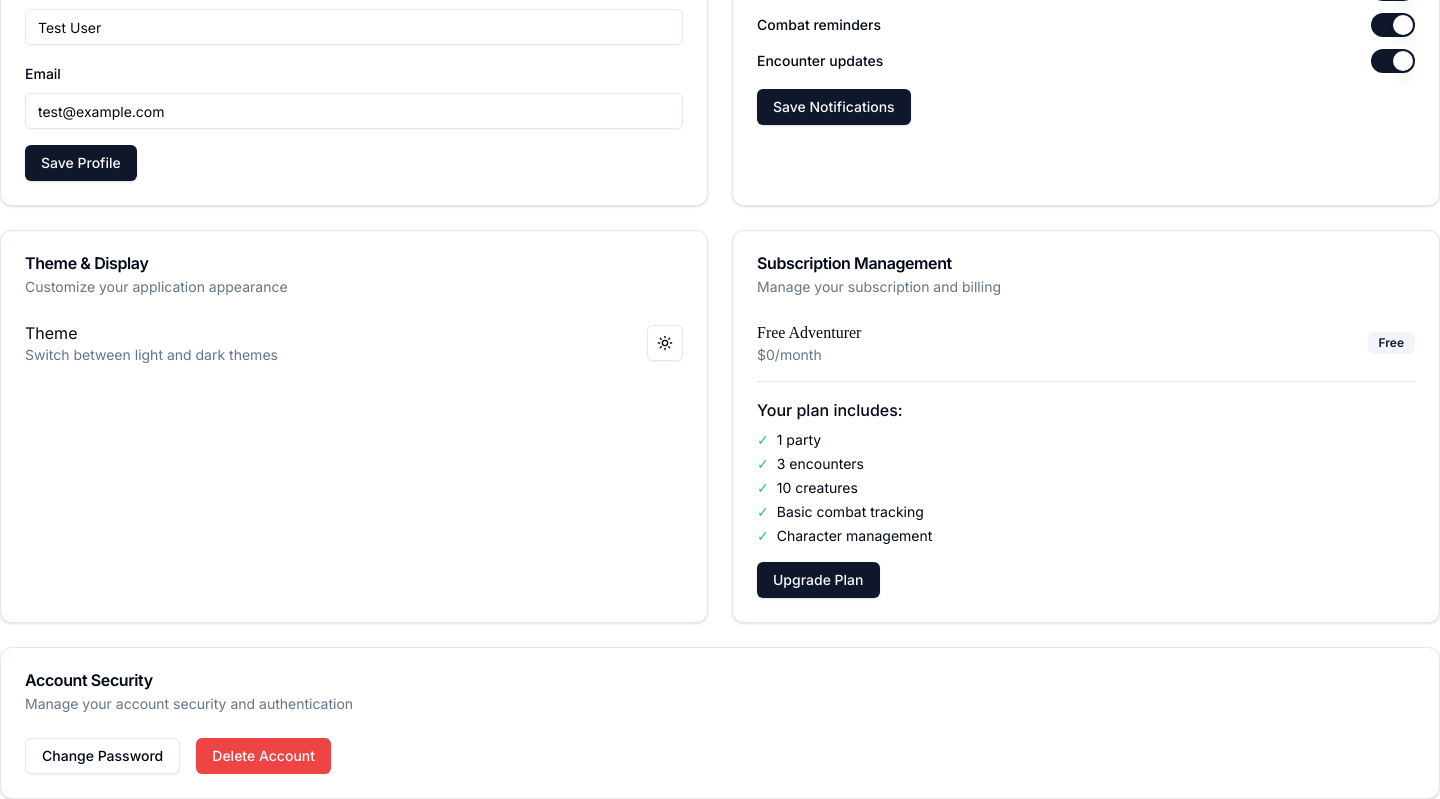
Test: Settings Component - Account Deletion › Account Deletion Process › should show error message when deletion fails
(page scrolled)
Click the button "Delete Account" at [264, 756], box [196,738,331,774]
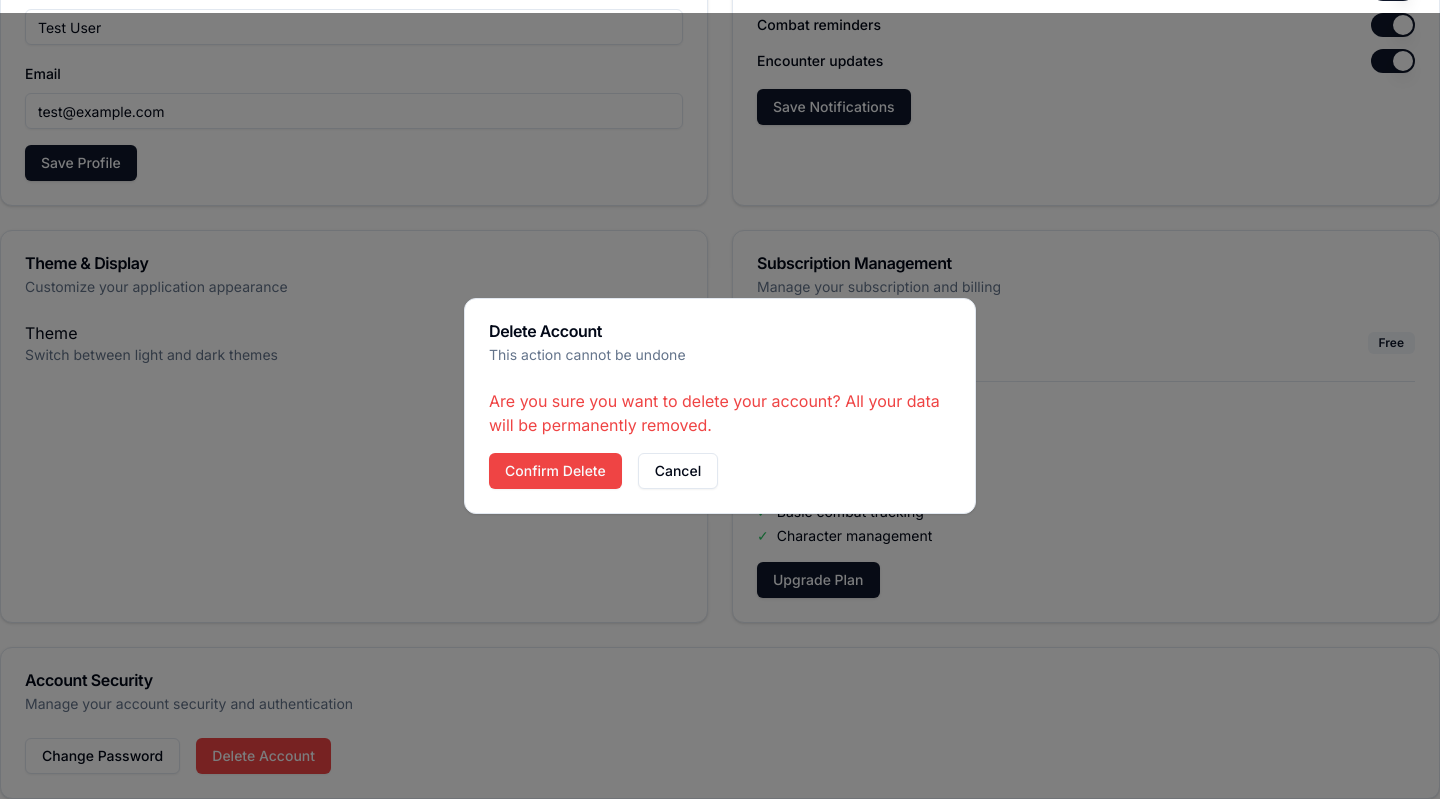
Click the button "Confirm Delete" at [555, 471], box [489,453,622,489]
(page scrolled)
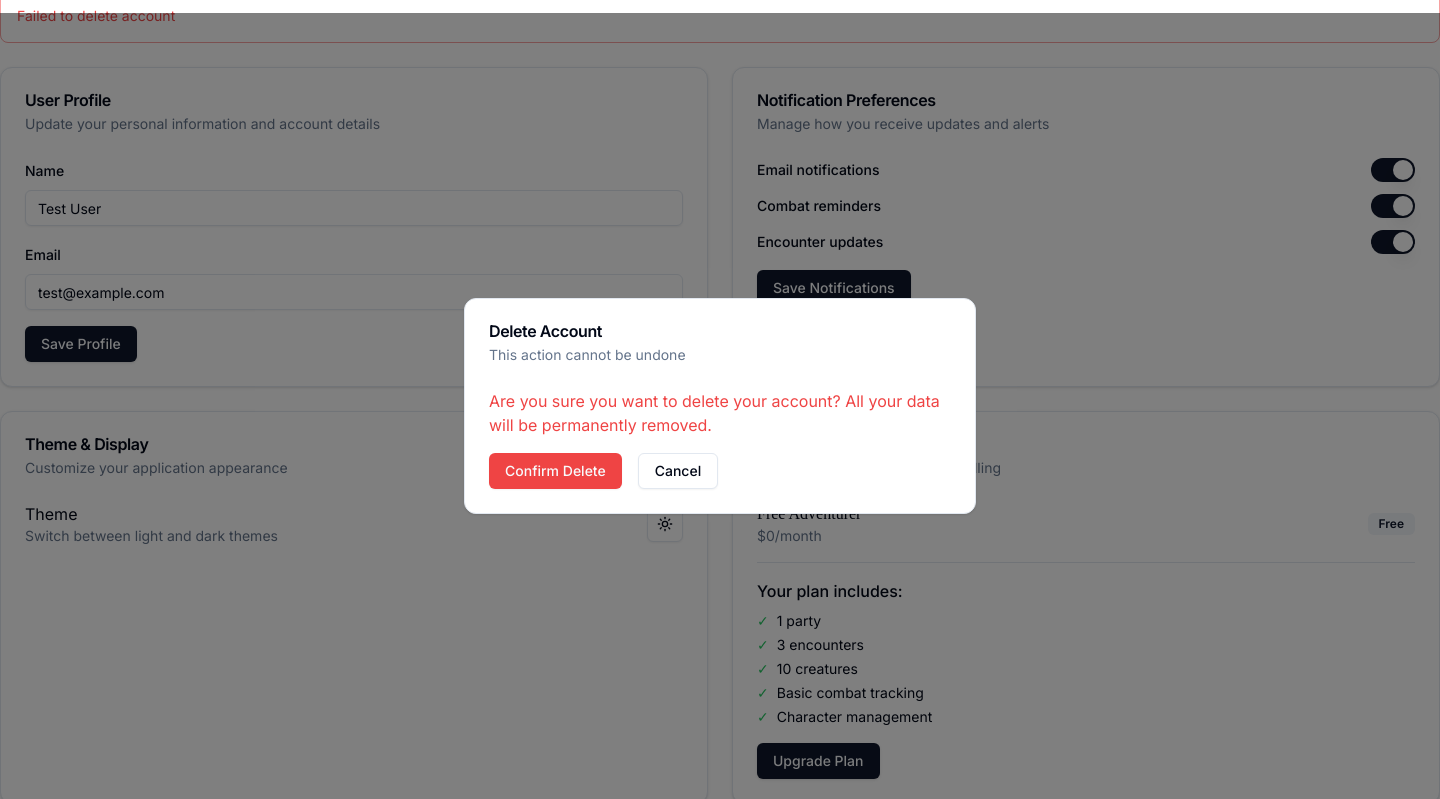
Expected: the text "Failed to delete account" is shown, [17,7,175,24]
